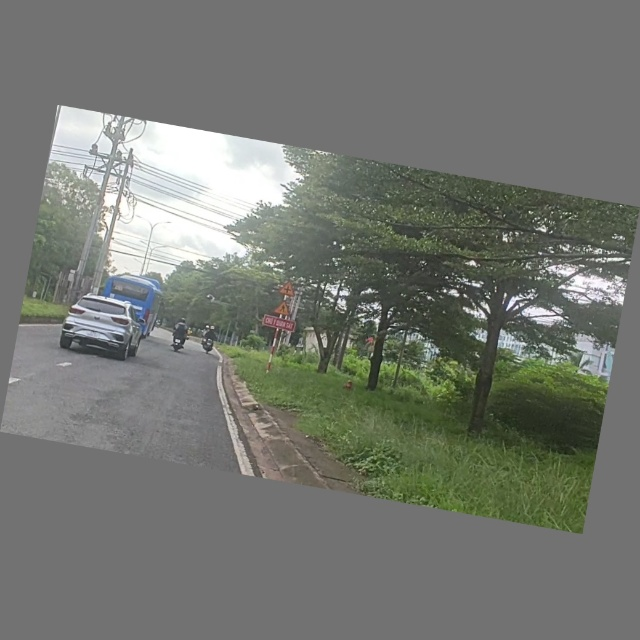W.205a: (278, 278, 298, 298)
W.224: (272, 298, 297, 318)
